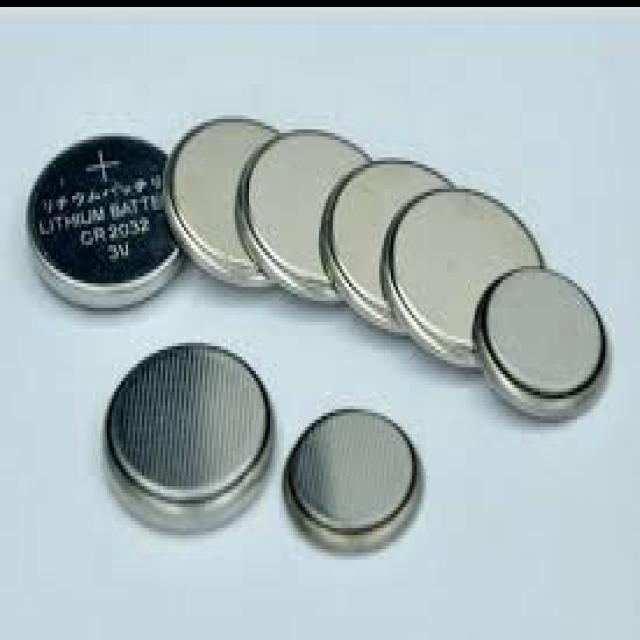battery: (28, 119, 605, 420), (107, 343, 272, 528), (284, 406, 419, 549)
